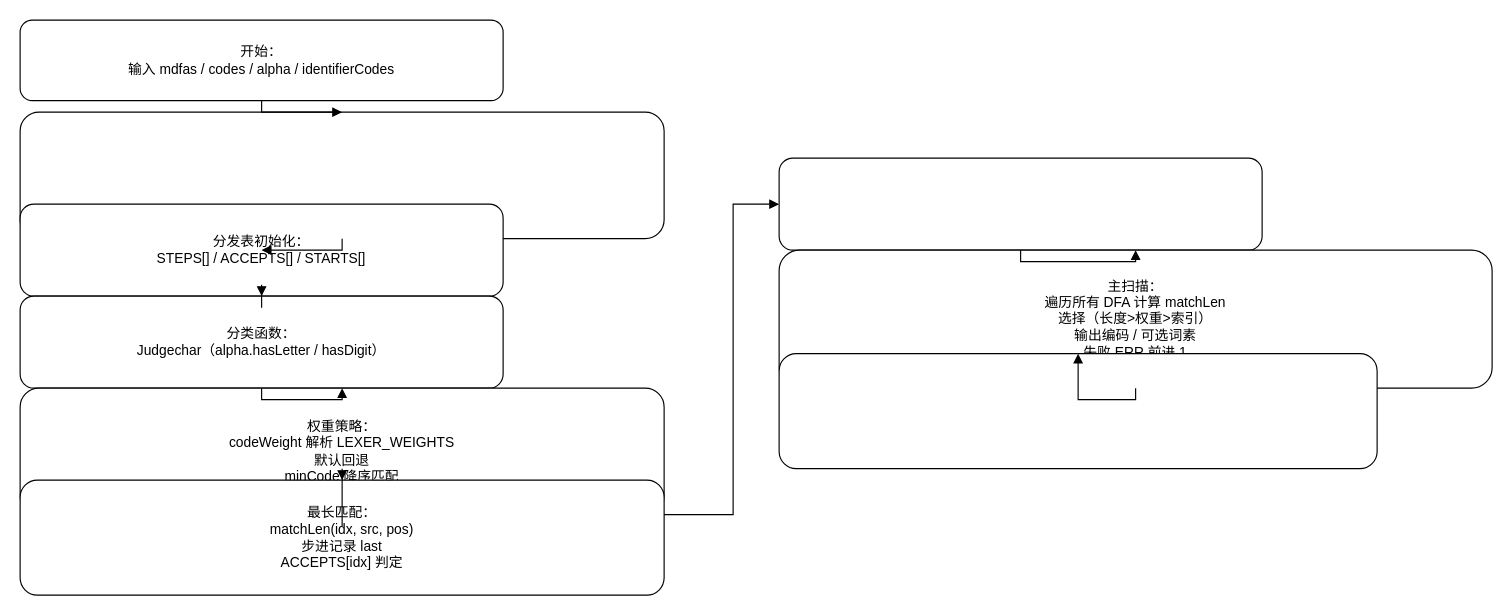
This 1512x615 diagram has some shape labels left out. The centre of each missing label's shape, as x and y in pixels:
"生成函数： 对每个 DFA 生成 AcceptState_i / Step_i （switch(state) / 字面字符匹配）" goes at point 341,175.
"跳过策略（配置驱动）： 空白 / 注释 / 字符串 / 模板" goes at point 1020,203.
"输出： 生成的 C++ 源（概念） 支持 CLI / GUI 运行 测试截图位置" goes at point 1077,410.
